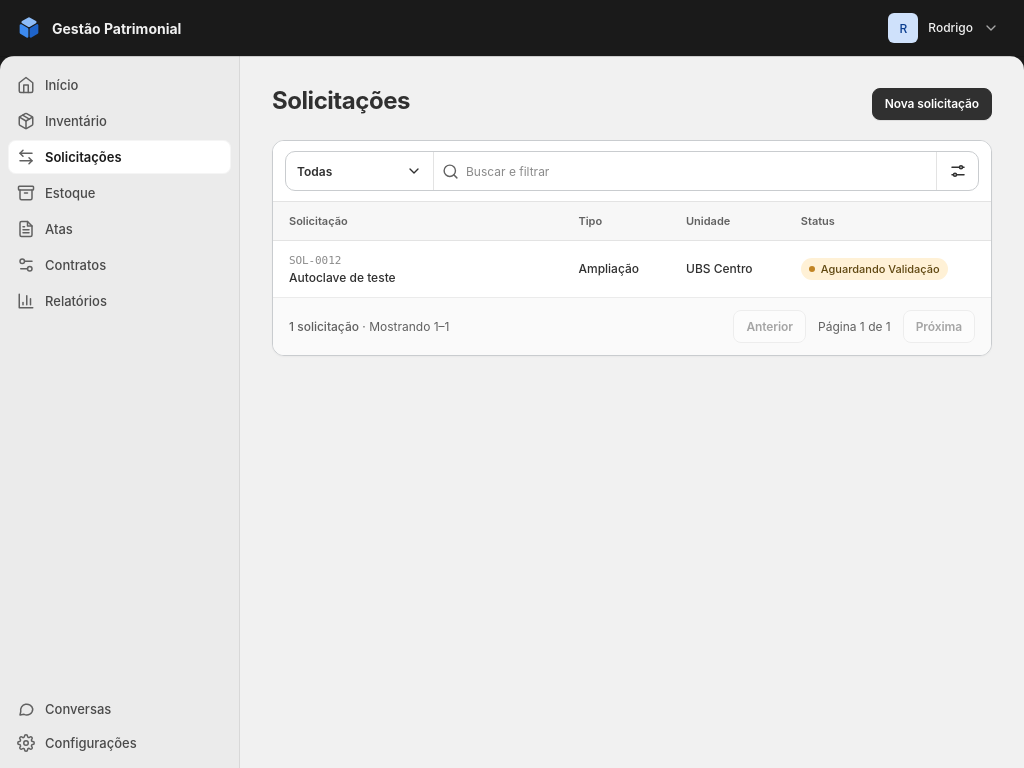
Scenario: gestor ajusta o tombamento, o formulário fecha e a confirmação aparece
Click the link with aria-label "Ver solicitação de Autoclave de teste" at (342,278), box x1=289 y1=270 x2=396 y2=285
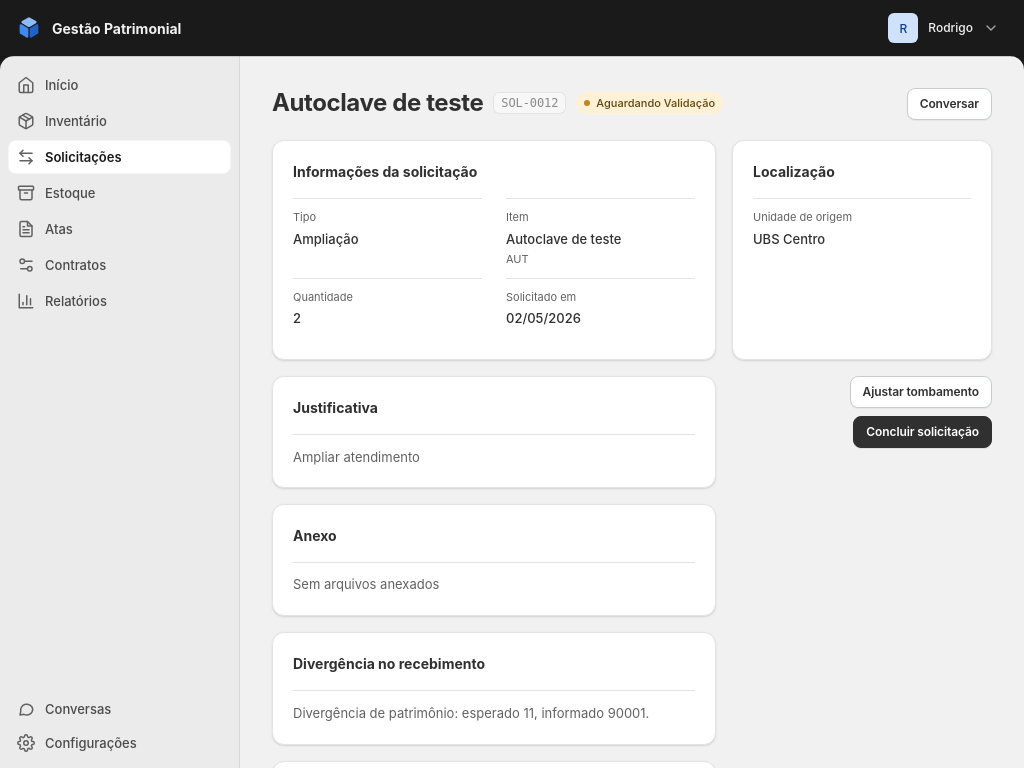
Click the button "Ajustar tombamento" at (921,392), box x1=850 y1=376 x2=992 y2=408
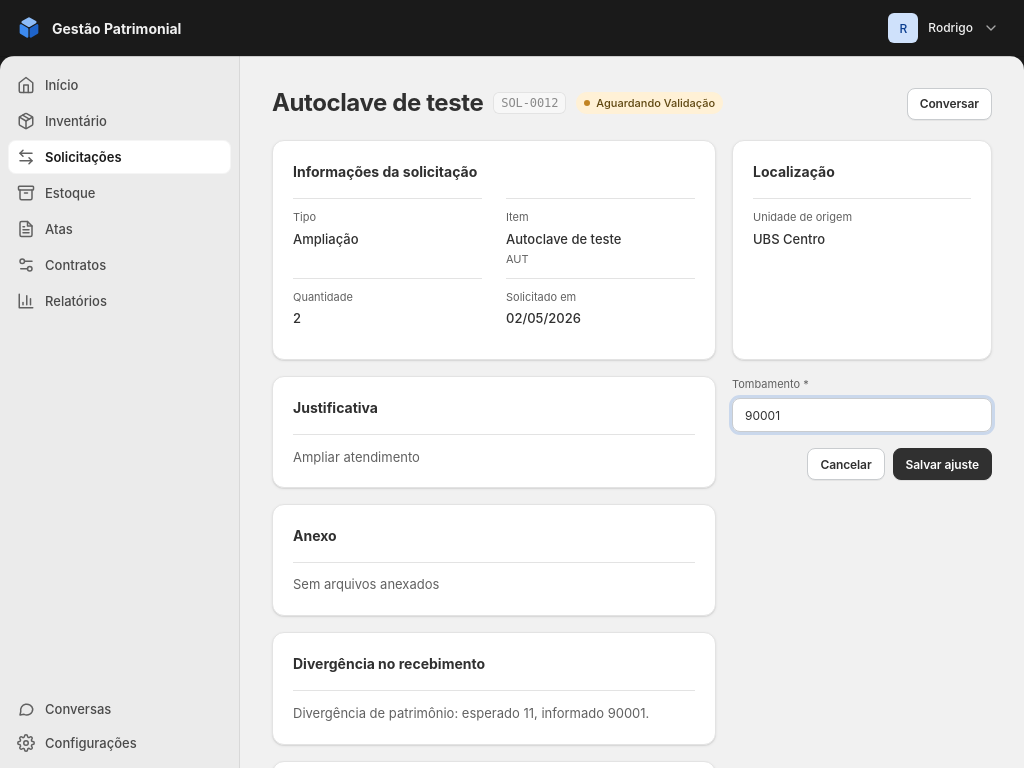
Replace the text in the field named "Tombamento do item 1" with "11" at (862,415), box x1=732 y1=398 x2=992 y2=432
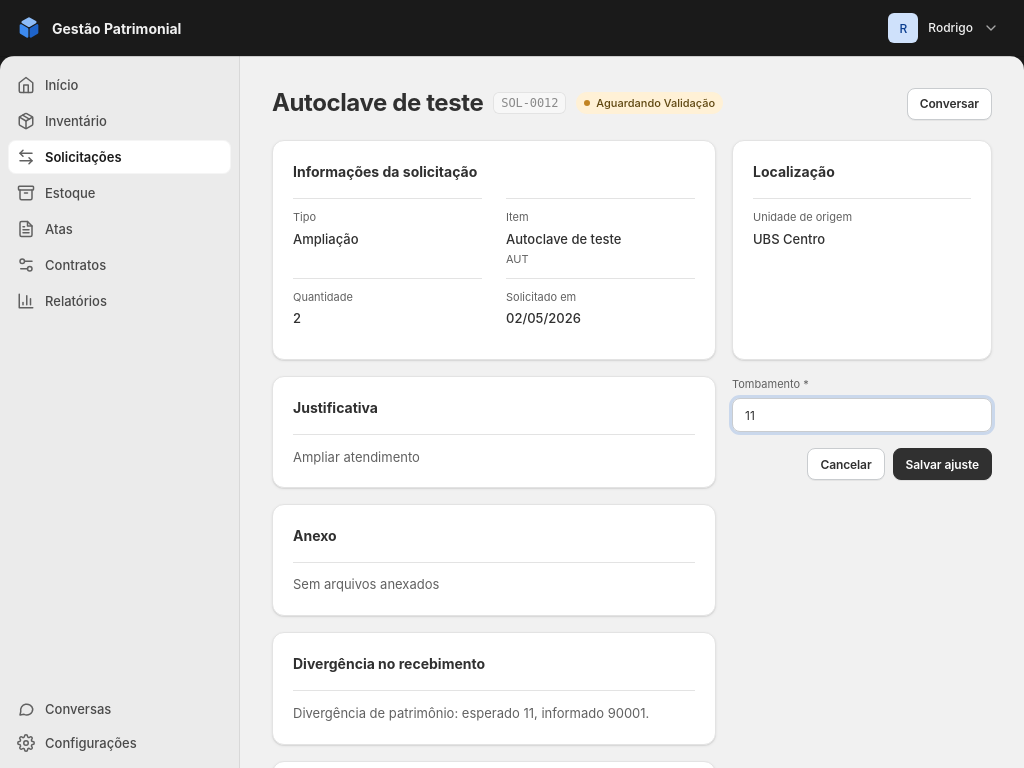
Click the button "Salvar ajuste" at (942,464), box x1=892 y1=448 x2=992 y2=480
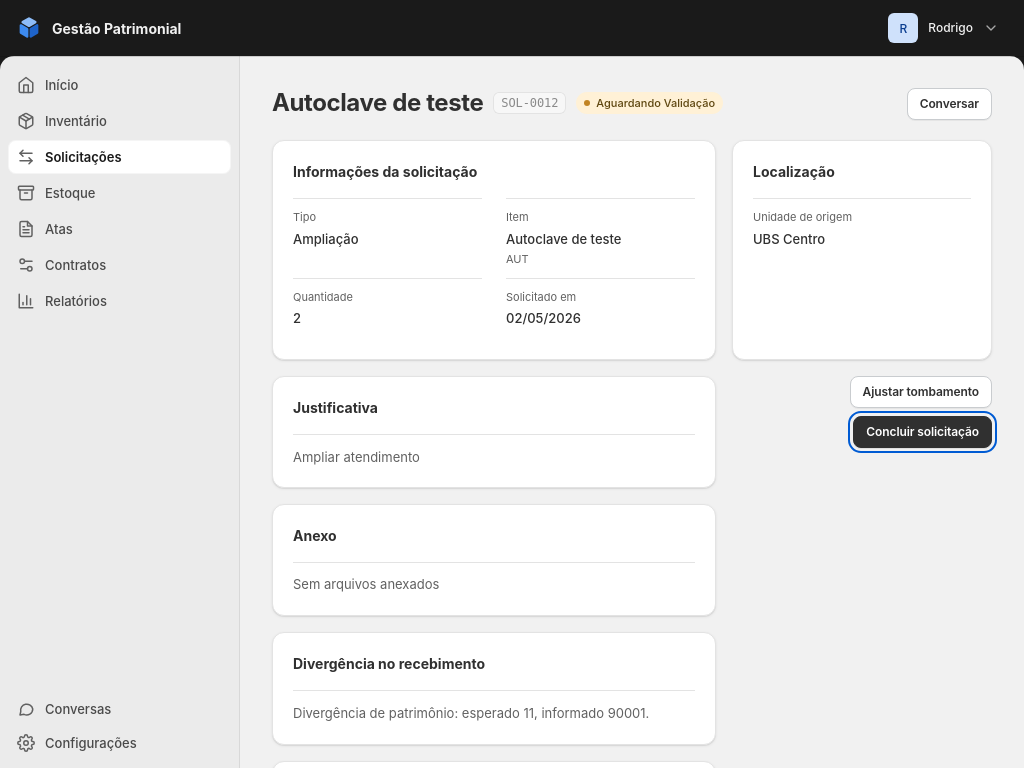
Check: the button "Ajustar tombamento" is shown, box x1=850 y1=376 x2=992 y2=408
Check: the button "Salvar ajuste" is gone
